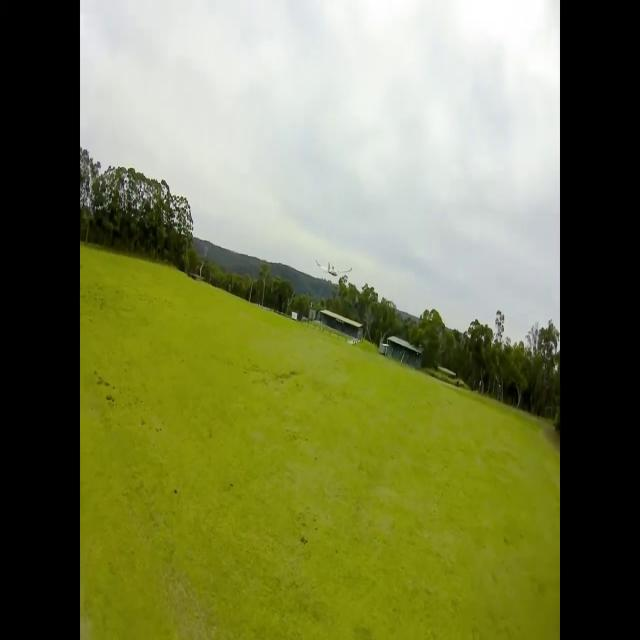iha: (317, 251, 353, 273)
